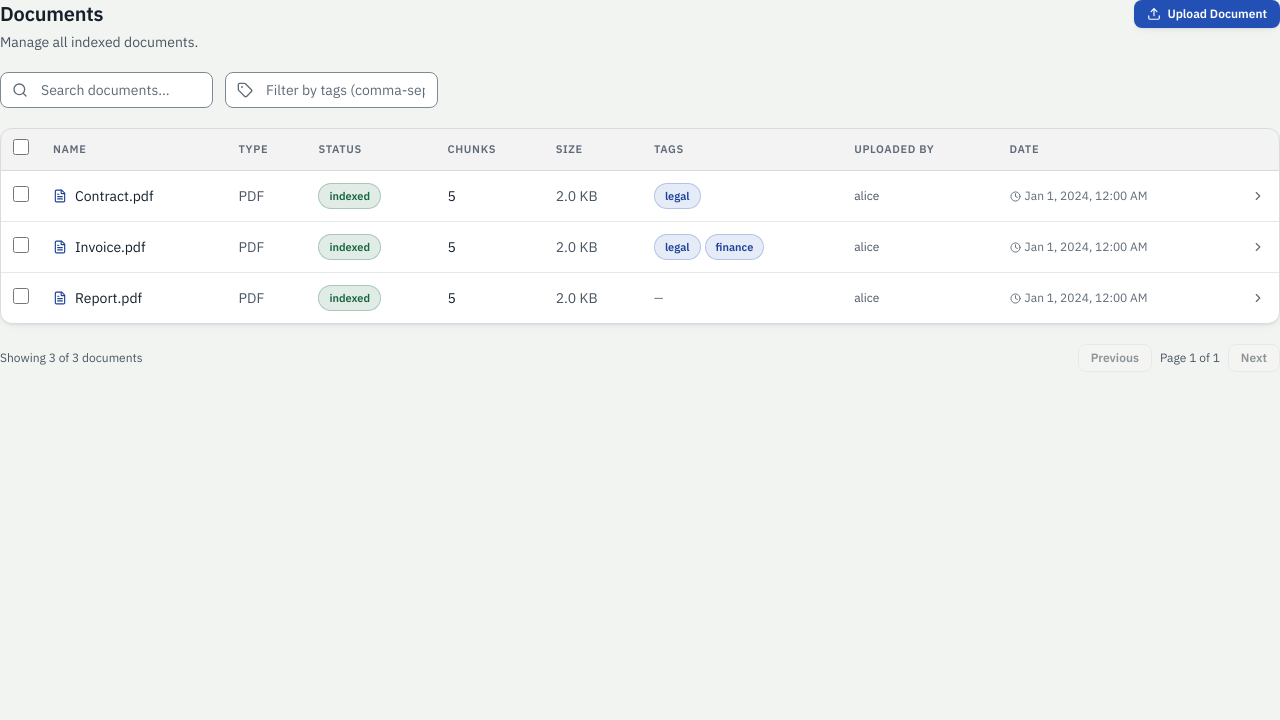
AdminDocumentsPage — Fix round 1 › total failure: keeps the selection, closes the modal, and shows a distinct toast
Check: the text "Contract.pdf" is shown, box [75,186,154,206]
Click the checkbox named "Select all documents".
click(21, 147)  # box [13,139,29,155]
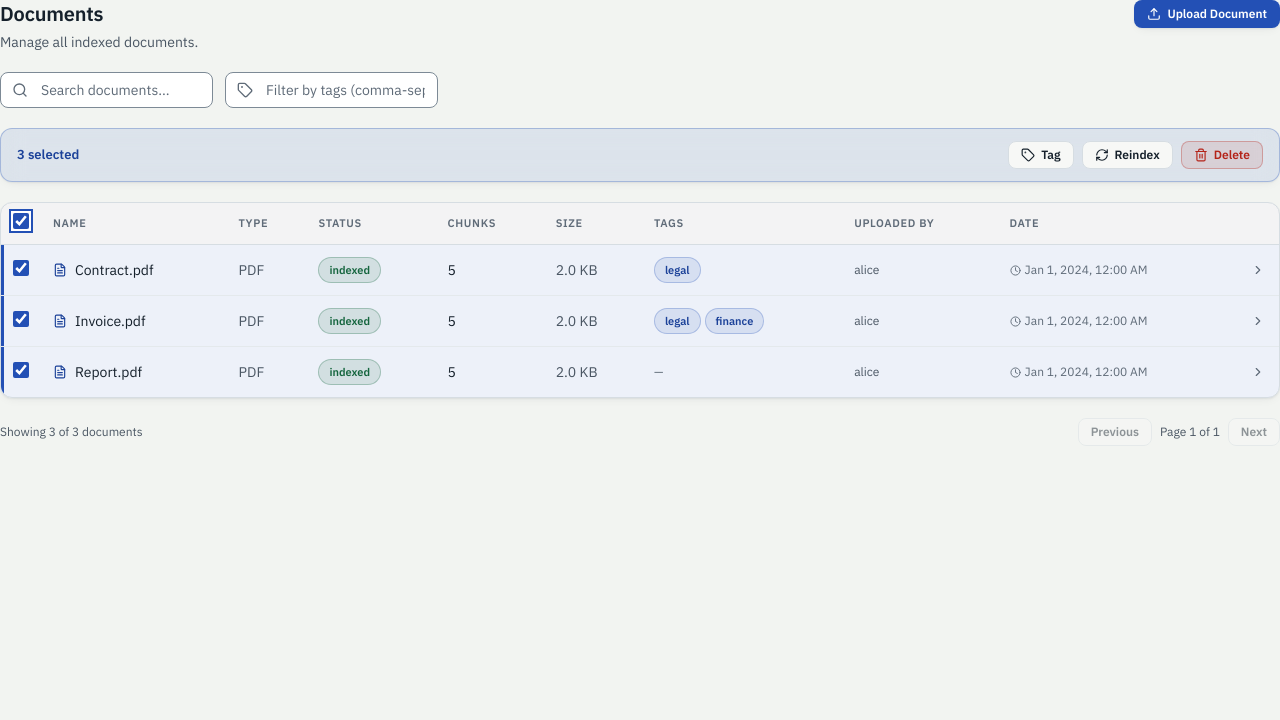
Click the checkbox named "Select Contract.pdf".
click(21, 268)  # box [13,260,29,276]
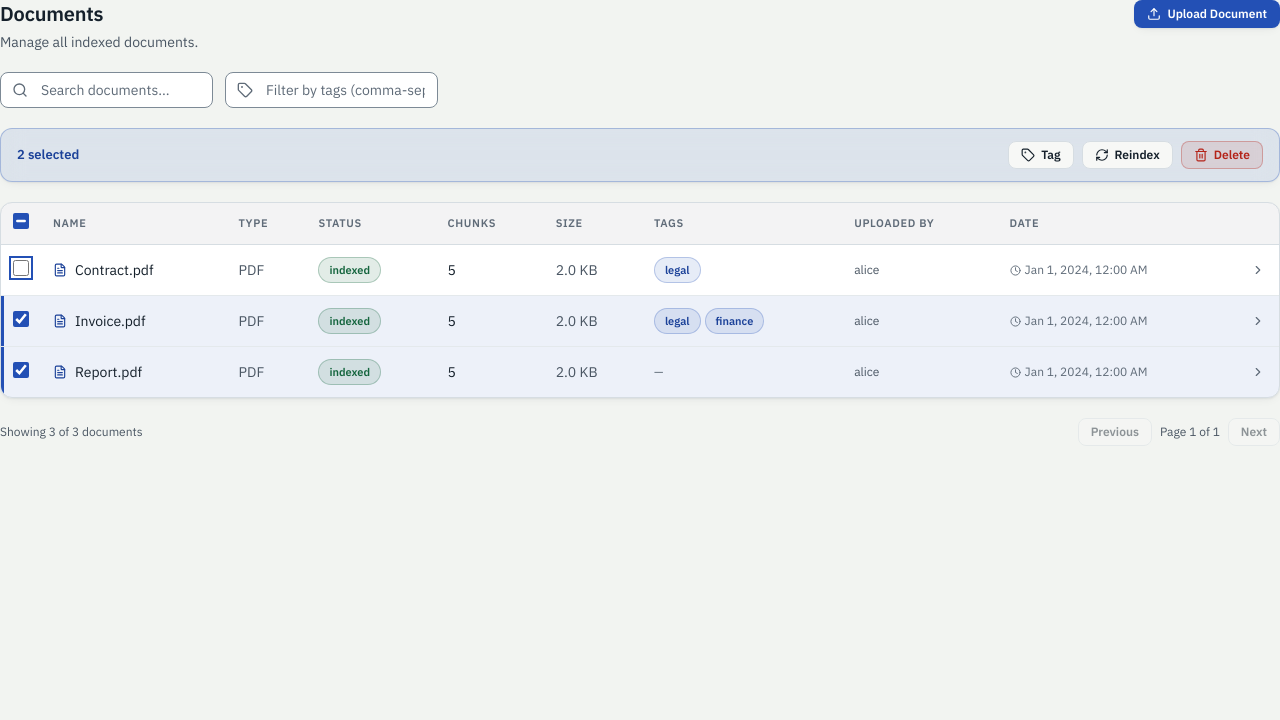
Check: the text "2 selected" is shown, box [17,145,79,165]
Click the button "Delete".
click(1222, 155)  # box [1181,141,1263,169]
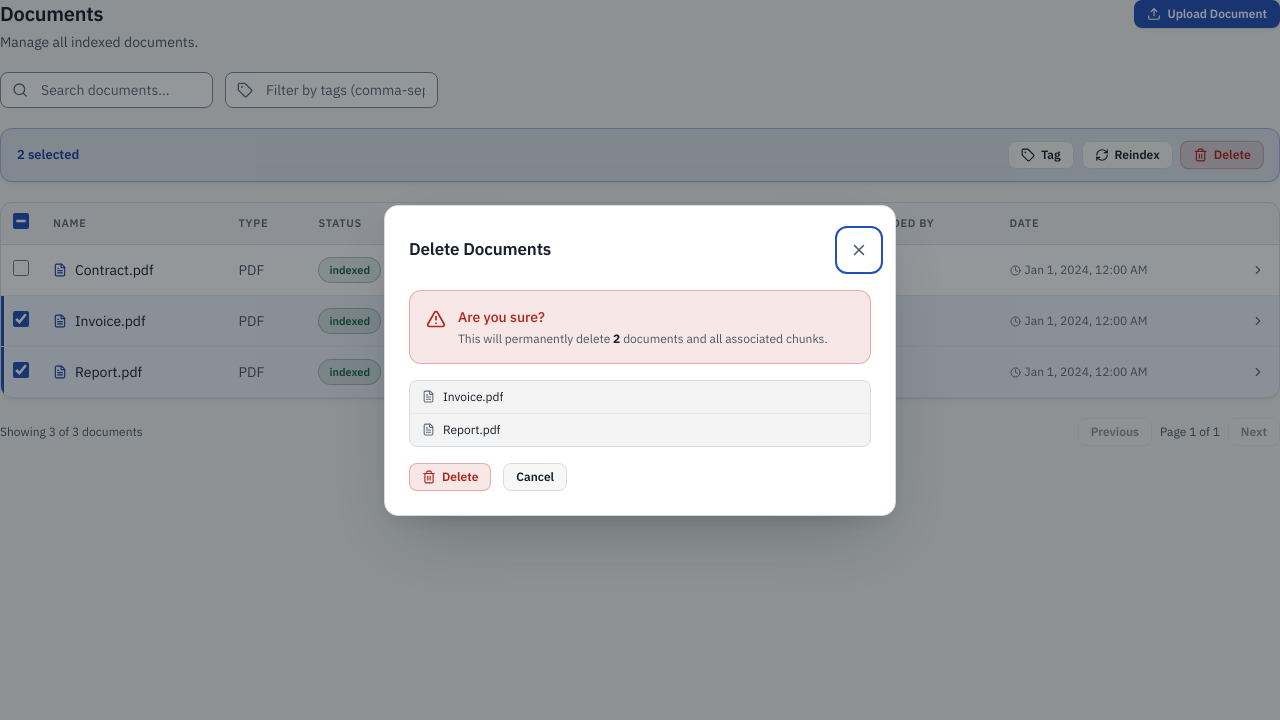
Click the button "Delete".
click(450, 476)  # box [409,462,491,490]
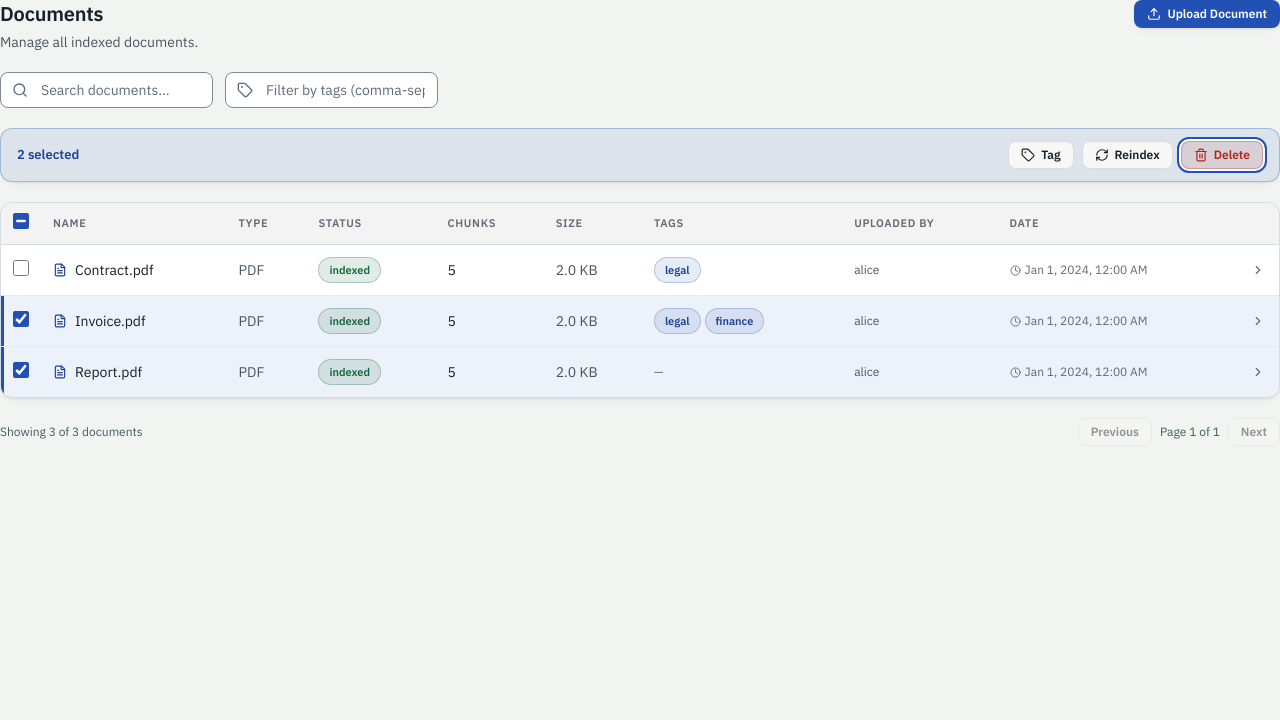
Check: the text "2 selected" is shown, box [17,145,79,165]
Check: the heading "Delete Documents" is gone
